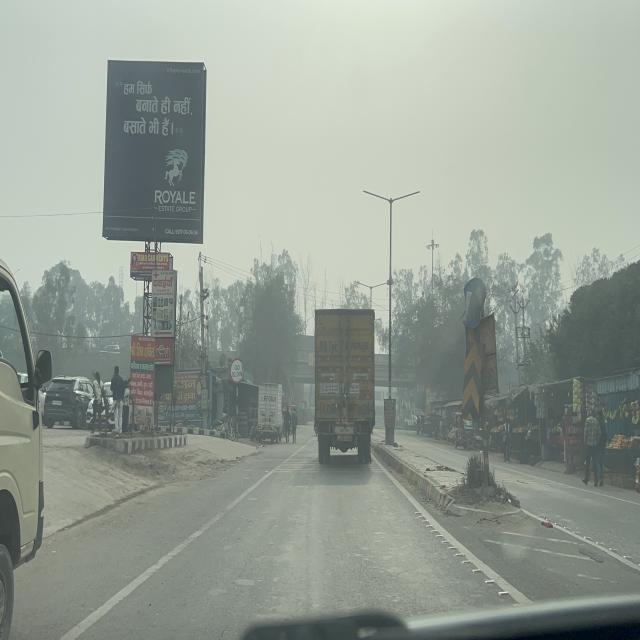GO_SLOW: (230, 358, 243, 384)
